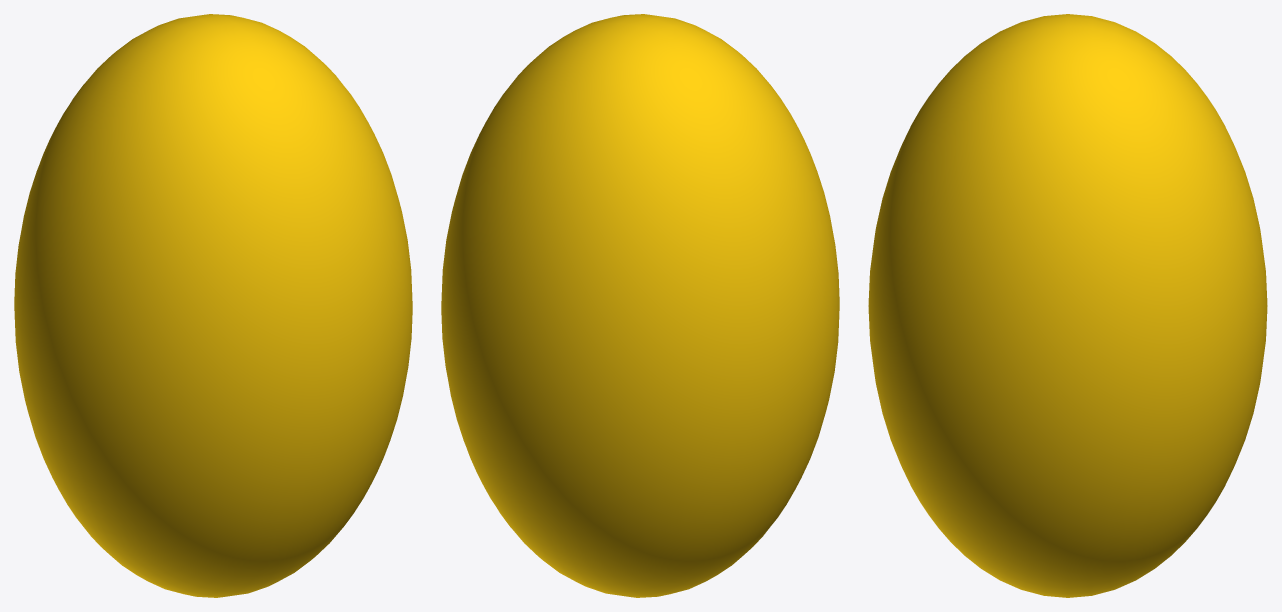
The model's file is egg.glb.
3 renders of one model, left to right at view 1: azimuth 30°, elevation 25°; view 2: azimuth 150°, elevation 25°; view 3: azimuth 270°, elevation 25°, orthographic.
Parts seen in each view (by area): view 1: mesh_id27; view 2: mesh_id27; view 3: mesh_id27.
Part boxes in pixels (left/top/right/bottom): mesh_id27: left=14, top=14, right=412, bottom=597; mesh_id27: left=441, top=14, right=839, bottom=597; mesh_id27: left=868, top=14, right=1267, bottom=597.
Size of the model in its own units: 0.1318 by 0.204 by 0.1318.
1 material, 1 textured.
